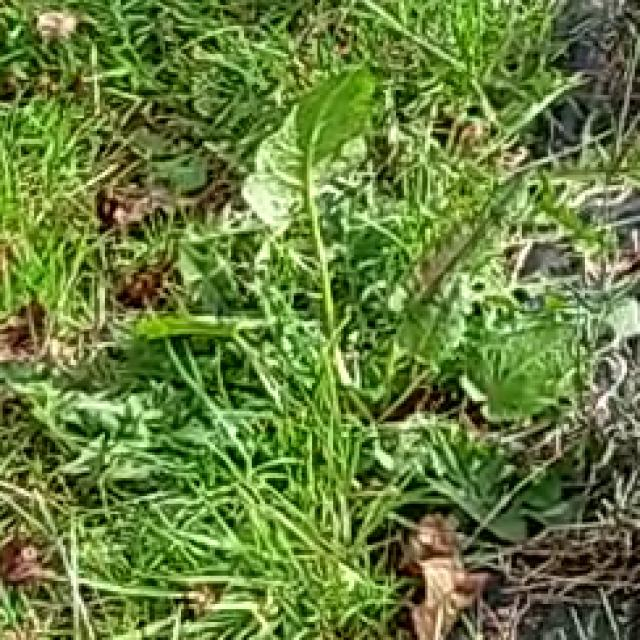organic waste: (215, 28, 530, 504)
